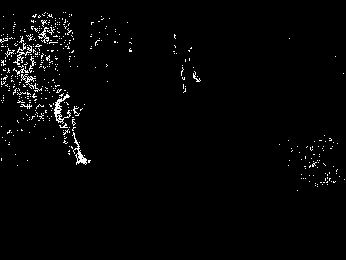person: (52, 91, 90, 165)
